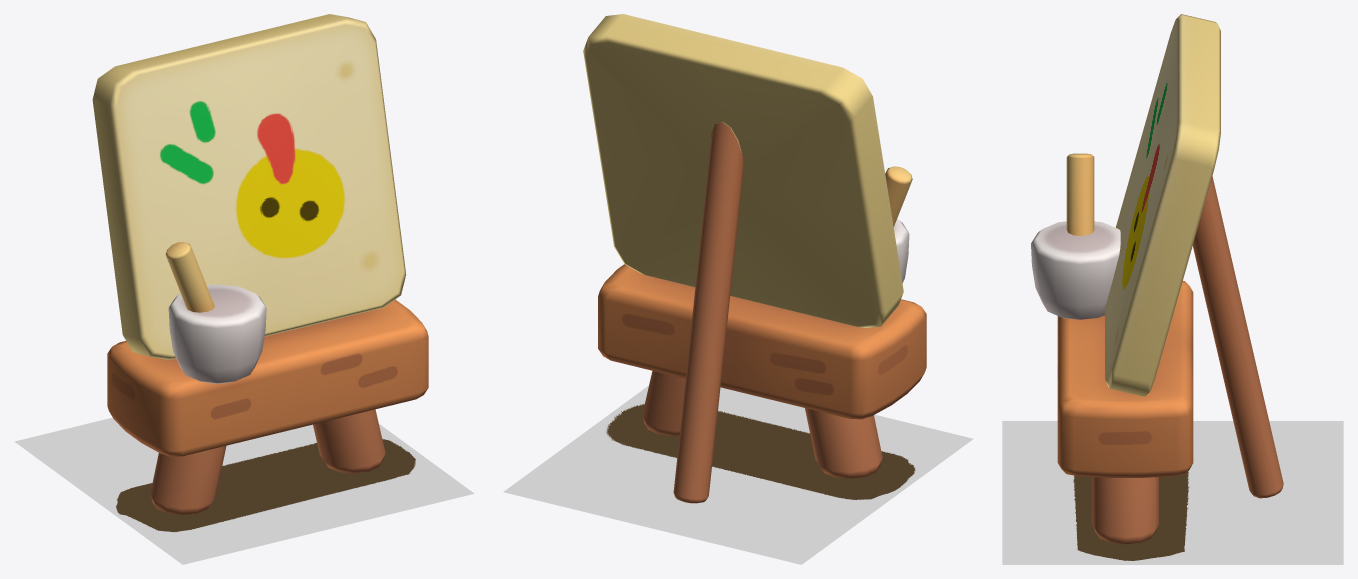
The model's file is Decor_Artbook.fbx.
3 views of the same model, side by side, from view 1: azimuth 30°, elevation 25°; view 2: azimuth 150°, elevation 25°; view 3: azimuth 270°, elevation 25° (orthographic). The views are drawn at different scales.
Visible parts, largest first — view 1: Artboard.001, Artboard_Grid; view 2: Artboard.001, Artboard_Grid; view 3: Artboard.001, Artboard_Grid.
Part boxes in pixels (x1,y1,x2,y2): Artboard.001: (92,14,428,531); Artboard_Grid: (14,417,474,564); Artboard.001: (583,14,926,503); Artboard_Grid: (503,385,973,564); Artboard.001: (1031,14,1283,560); Artboard_Grid: (1002,421,1343,564).
Size of the model in its own units: 1 by 1.38 by 1.
